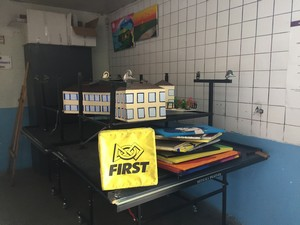cube: (95, 128, 161, 190)
